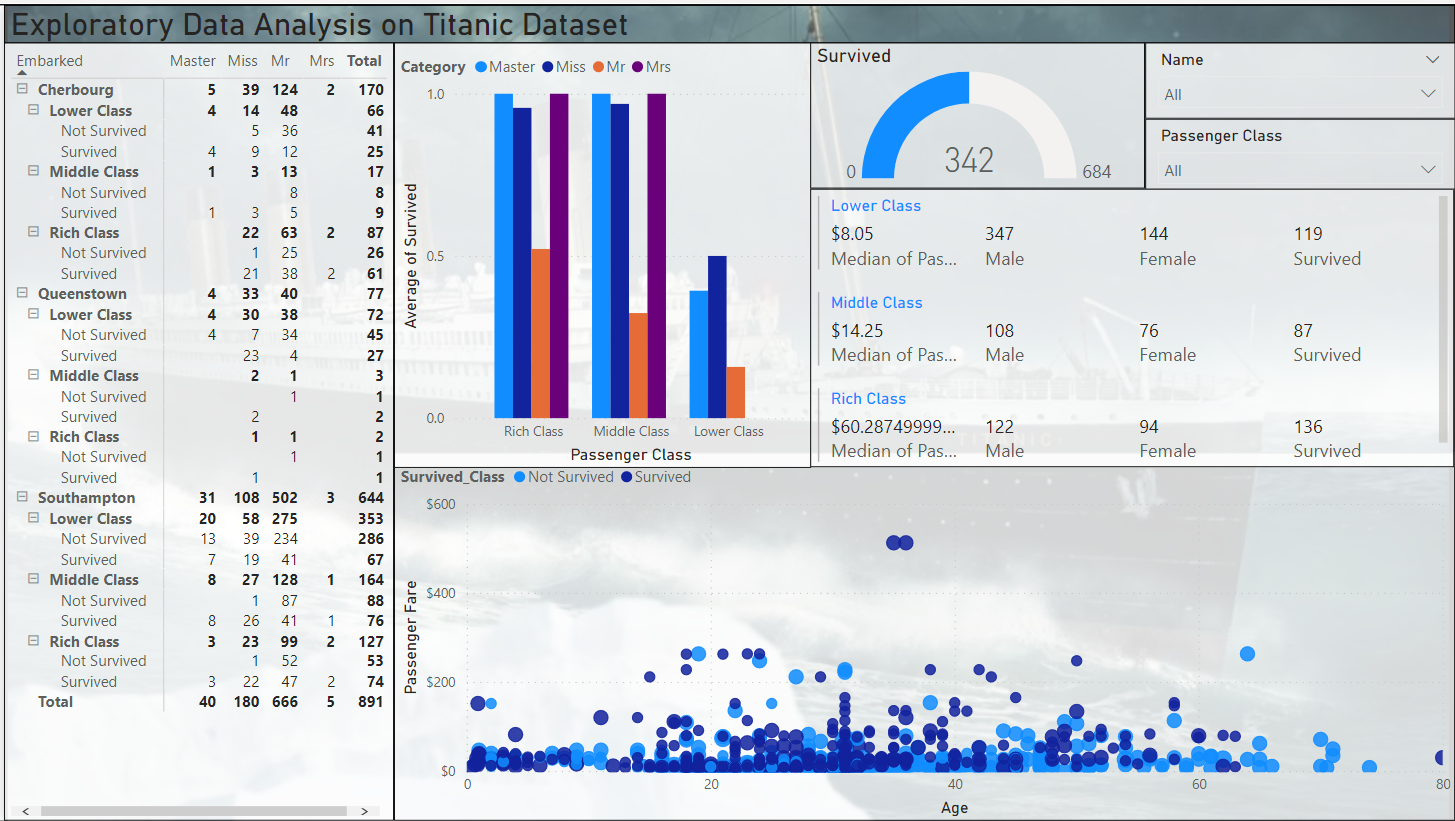

The page's visual inventory and layout, read from the dashboard file:
{"tool":"powerbi","page":{"name":"Titanic","canvas":[1280,720],"ordinal":0},"visuals":[{"type":"pivotTable","fields":{"Rows":["power_bi_data.Embarked","power_bi_data.Passenger Class","power_bi_data.Survived"],"Columns":["power_bi_data.Category"],"Values":["CountNonNull(power_bi_data.Survived)"]},"box":[0,33.4,343.9,686.6],"z":0},{"type":"scatterChart","fields":{"X":["power_bi_data.Age"],"Y":["power_bi_data.Passenger Fare"],"Series":["power_bi_data.Survived"],"Size":["Sum(power_bi_data.Male)"]},"box":[343.9,395.2,936.1,324.8],"z":1000},{"type":"lineClusteredColumnComboChart","fields":{"Category":["power_bi_data.Passenger Class"],"Series":["power_bi_data.Category"],"Y":["Avg(power_bi_data.Is_Survived)"]},"box":[343.9,33.4,367.8,374.9],"z":2000},{"type":"multiRowCard","fields":{"Values":["power_bi_data.Passenger Class","Median(power_bi_data.Passenger Fare)","Sum(power_bi_data.Male)","Sum(power_bi_data.Female)","Sum(power_bi_data.Is_Survived)"]},"box":[711.6,162.4,568.4,246],"z":3000},{"type":"slicer","fields":{"Values":["power_bi_data.Name"]},"box":[1006.6,33.4,273.4,66.9],"z":4000},{"type":"slicer","fields":{"Values":["power_bi_data.Passenger Class"]},"box":[1006.6,100.3,273.4,62.1],"z":5000},{"type":"gauge","fields":{"Y":["Sum(power_bi_data.Survived)"]},"box":[711.6,33.4,294.9,129],"z":6000},{"type":"textbox","title":"Exploratory Data Analysis on Titanic Dataset","box":[0,0,1280,33.4],"z":6001}]}

Visuals, with their boxes in screenshot pixels (x1, y1, x2, y2), scaled from the page's 1280x720 canvas onto the 1455x821 screenshot:
pivotTable - power_bi_data.Embarked x power_bi_data.Passenger Class: [x1=0, y1=38, x2=391, y2=820]
scatterChart - power_bi_data.Age x power_bi_data.Passenger Fare: [x1=391, y1=451, x2=1454, y2=820]
lineClusteredColumnComboChart - power_bi_data.Passenger Class x power_bi_data.Category: [x1=391, y1=38, x2=809, y2=466]
multiRowCard - power_bi_data.Passenger Class x Median(power_bi_data.Passenger Fare): [x1=809, y1=185, x2=1454, y2=466]
slicer - power_bi_data.Name: [x1=1144, y1=38, x2=1454, y2=114]
slicer - power_bi_data.Passenger Class: [x1=1144, y1=114, x2=1454, y2=185]
gauge - Sum(power_bi_data.Survived): [x1=809, y1=38, x2=1144, y2=185]
"Exploratory Data Analysis on Titanic Dataset" textbox: [x1=0, y1=0, x2=1454, y2=38]
